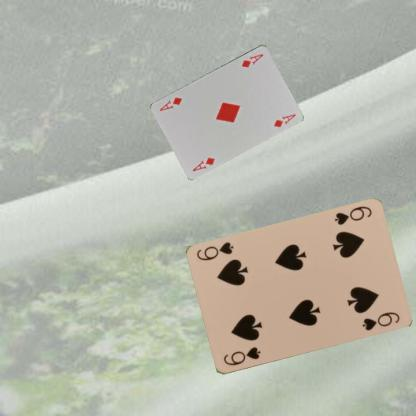6s: (221, 344, 262, 367), (332, 204, 372, 226)
Ad: (238, 51, 264, 69), (190, 154, 216, 172)
